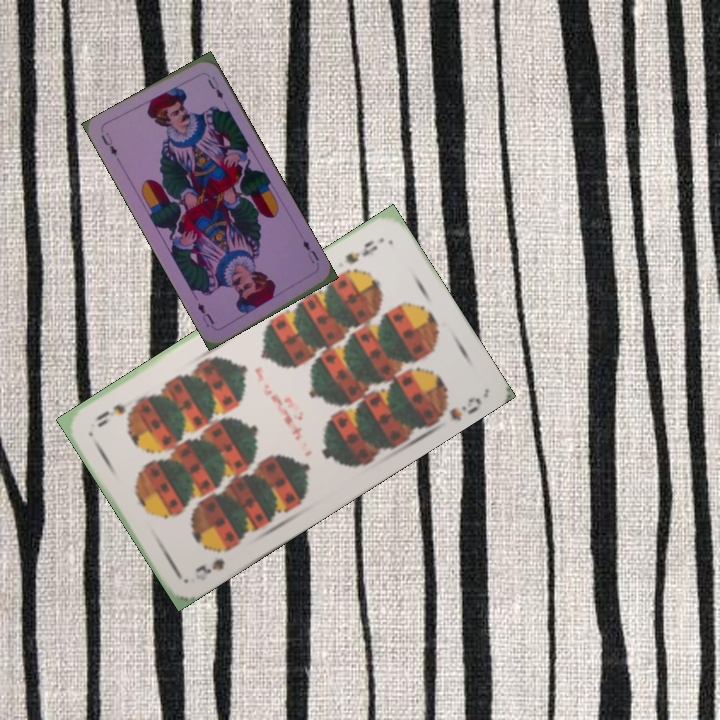EU: (298, 236, 322, 266), (97, 128, 120, 158)
S9: (190, 540, 237, 577), (341, 235, 380, 267)
